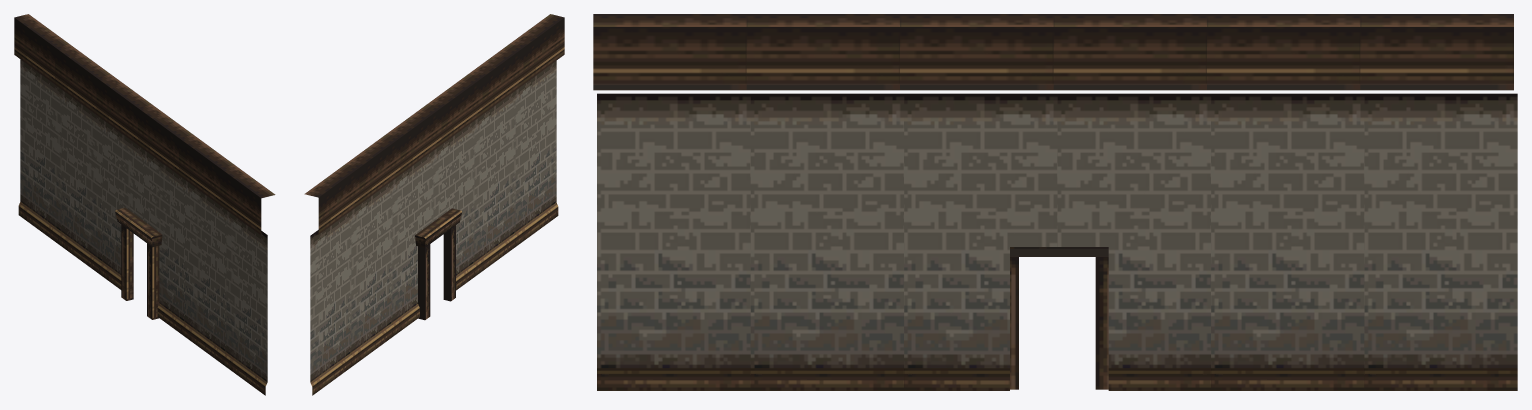
The model's file is EnvBdgMD_Wilderness_A_Indoor_B_Wall_2F.FBX.
The picture shows the model from 3 angles, left to right: view 1: azimuth 30°, elevation 25°; view 2: azimuth 150°, elevation 25°; view 3: azimuth 270°, elevation 25°; orthographic projection. The views are drawn at different scales.
Visible parts, largest first — view 1: EnvBdgMD_Wilderness_A_Indoor_B_Wall_2F; view 2: EnvBdgMD_Wilderness_A_Indoor_B_Wall_2F; view 3: EnvBdgMD_Wilderness_A_Indoor_B_Wall_2F.
Part boxes in pixels (bbox=[...]): EnvBdgMD_Wilderness_A_Indoor_B_Wall_2F: bbox=[14, 14, 275, 395]; EnvBdgMD_Wilderness_A_Indoor_B_Wall_2F: bbox=[304, 14, 564, 395]; EnvBdgMD_Wilderness_A_Indoor_B_Wall_2F: bbox=[593, 14, 1517, 390].
Size of the model in its own units: 49.51 by 540 by 1205.
1 material, 1 textured.
